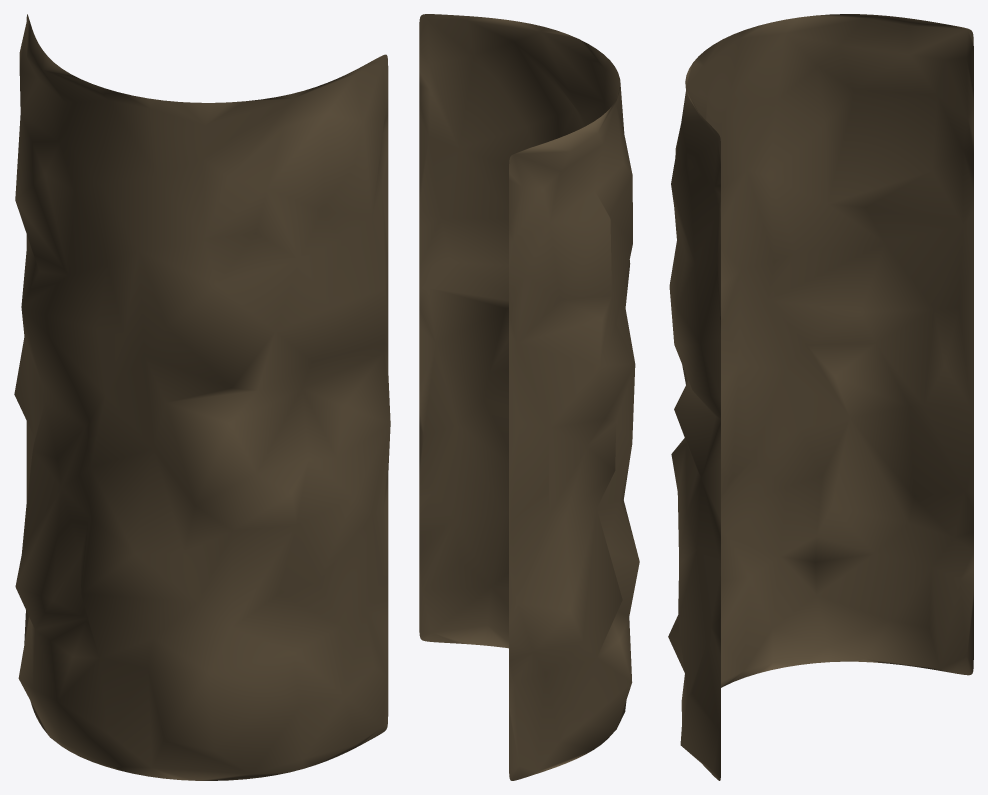
Rendered from BlocksRock_05.fbx.
3 renders of one model, left to right at view 1: azimuth 30°, elevation 25°; view 2: azimuth 150°, elevation 25°; view 3: azimuth 270°, elevation 25°, orthographic. The views are drawn at different scales.
Parts seen in each view (by area): view 1: BlockRock_05_Rise; view 2: BlockRock_05_Rise; view 3: BlockRock_05_Rise.
Boxes of the visible parts, x1=… form: BlockRock_05_Rise: x1=14, y1=14, x2=390, y2=780; BlockRock_05_Rise: x1=419, y1=14, x2=639, y2=780; BlockRock_05_Rise: x1=668, y1=14, x2=973, y2=780.
Size of the model in its own units: 867 by 2000 by 856.
